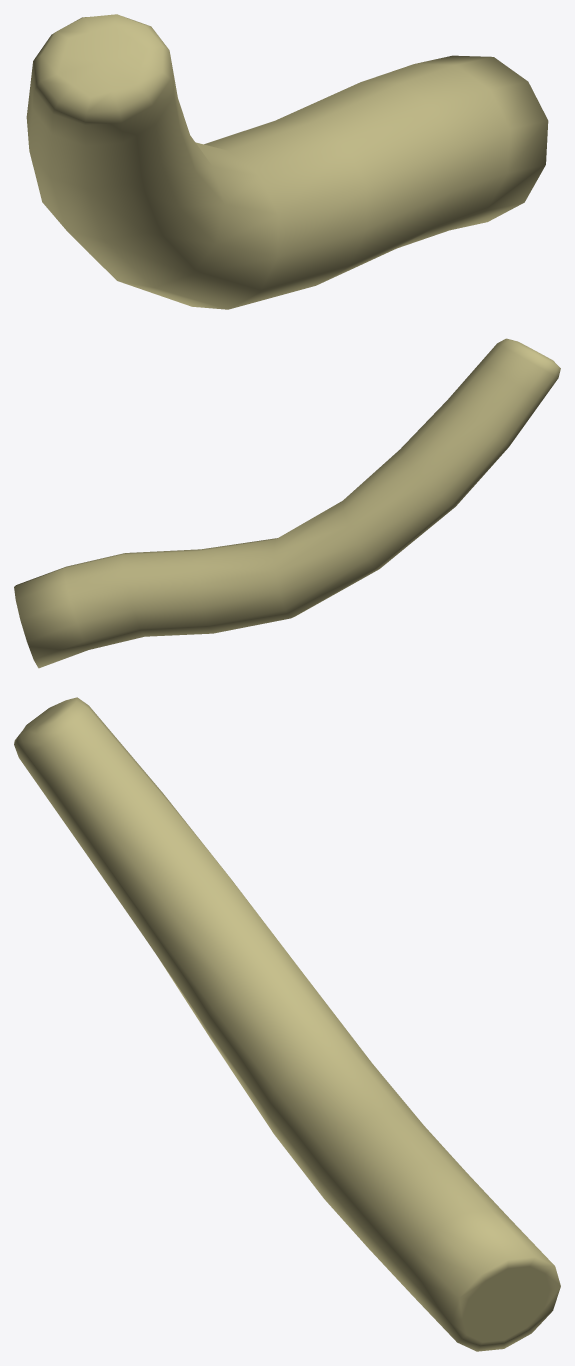
Rendered from Nerves_R5.FBX.
3 renders of one model, top to bottom at view 1: azimuth 30°, elevation 25°; view 2: azimuth 150°, elevation 25°; view 3: azimuth 270°, elevation 25°, orthographic. The views are drawn at different scales.
Parts seen in each view (by area): view 1: Nerves_R5; view 2: Nerves_R5; view 3: Nerves_R5.
Part boxes in pixels (x1=…): Nerves_R5: x1=26, y1=14, x2=548, y2=309; Nerves_R5: x1=14, y1=338, x2=560, y2=668; Nerves_R5: x1=14, y1=697, x2=560, y2=1351.
Bounding box in the file's own units: 0.00806 × 0.00569 × 0.00676.
